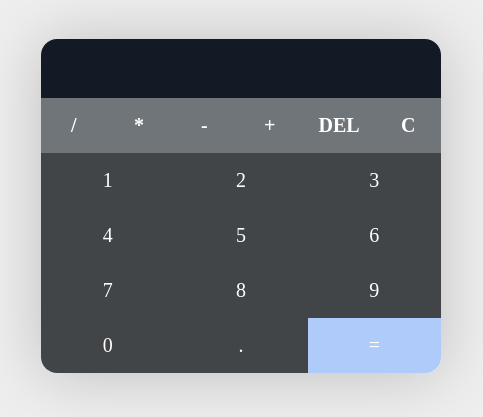
App Component › should print number on digit click both for equation and preview part
This screenshot has width=483, height=417.
Click the button "7" at (108, 290), box x1=41 y1=263 x2=174 y2=318
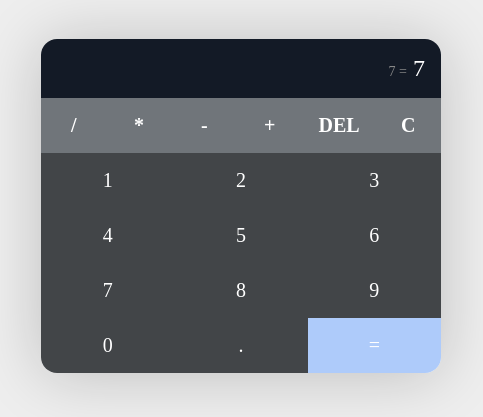
Now the text "7 =" is shown, box x1=389 y1=64 x2=407 y2=79
Now the text with test id "equation" reads "7", box x1=413 y1=55 x2=425 y2=81
